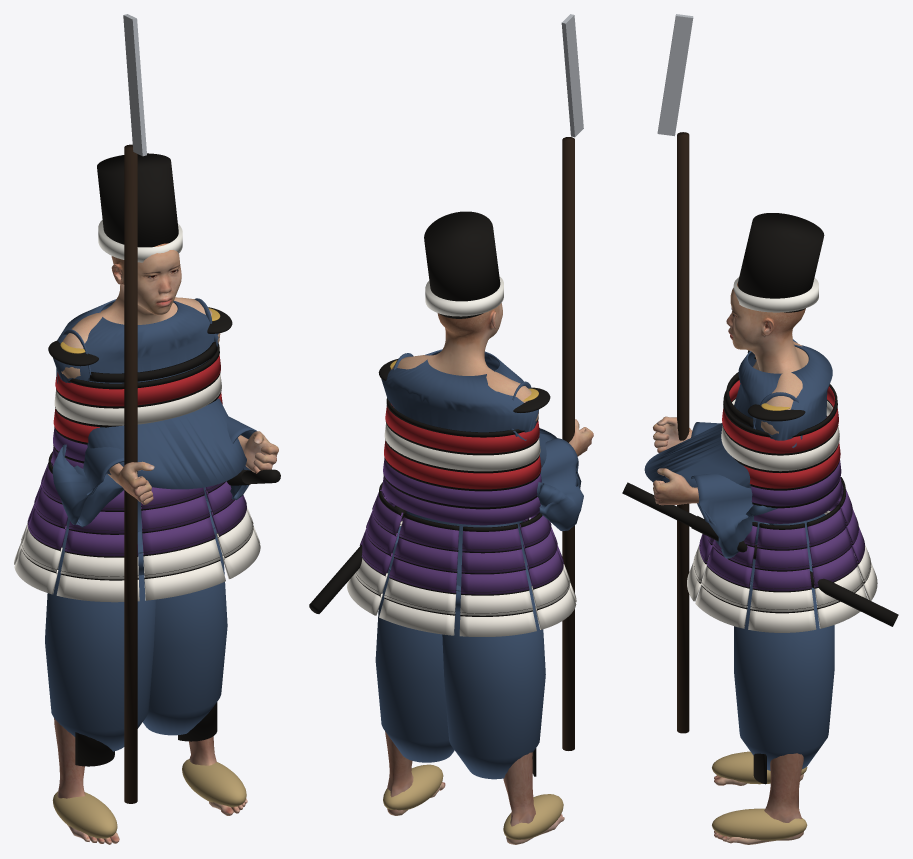
Rendered from bushi_doumaru.glb.
3 views of the same model, side by side, from view 1: azimuth 30°, elevation 25°; view 2: azimuth 150°, elevation 25°; view 3: azimuth 270°, elevation 25° (orthographic). The views are drawn at different scales.
Visible parts, largest first — view 1: shitagi, hakama.R, hakama.L, Human, naginata_e, dou, kusazuri0, kusazuri7, eboshi, sode.R, kusazuri6, kusazuri1 (+9 smaller); view 2: dou, hakama.R, hakama.L, shitagi, Human, kusazuri4, kusazuri5, naginata_e, eboshi, kusazuri6, kusazuri3, sode.R (+5 smaller); view 3: hakama.L, dou, Human, shitagi, naginata_e, kusazuri2, eboshi, kusazuri3, sode.L, kusazuri1, naginata_ha, kutsu.L (+7 smaller).
Boxes of the visible parts, bbox=[...] form: shitagi: bbox=[53, 299, 246, 575]; hakama.R: bbox=[45, 528, 155, 751]; hakama.L: bbox=[143, 487, 227, 735]; Human: bbox=[54, 243, 278, 844]; naginata_e: bbox=[124, 144, 137, 803]; dou: bbox=[52, 343, 222, 468]; kusazuri0: bbox=[141, 487, 225, 600]; kusazuri7: bbox=[56, 490, 139, 602]; eboshi: bbox=[97, 153, 178, 247]; sode.R: bbox=[52, 329, 138, 527]; kusazuri6: bbox=[14, 462, 67, 594]; kusazuri1: bbox=[205, 481, 260, 579]; dou: bbox=[382, 398, 541, 525]; hakama.R: bbox=[442, 549, 545, 779]; hakama.L: bbox=[375, 526, 454, 762]; shitagi: bbox=[381, 349, 557, 611]; Human: bbox=[385, 303, 593, 844]; kusazuri4: bbox=[379, 513, 459, 635]; kusazuri5: bbox=[459, 524, 536, 636]; naginata_e: bbox=[562, 137, 574, 750]; eboshi: bbox=[424, 211, 500, 318]; kusazuri6: bbox=[519, 512, 576, 629]; kusazuri3: bbox=[347, 490, 403, 615]; sode.R: bbox=[510, 381, 583, 531]; hakama.L: bbox=[734, 568, 834, 770]; dou: bbox=[721, 380, 841, 523]; Human: bbox=[653, 282, 808, 844]; shitagi: bbox=[644, 344, 832, 584]; naginata_e: bbox=[677, 132, 689, 733]; kusazuri2: bbox=[748, 523, 816, 632]; eboshi: bbox=[738, 213, 824, 312]; kusazuri3: bbox=[806, 504, 867, 628]; sode.L: bbox=[691, 392, 802, 558]; kusazuri1: bbox=[695, 522, 757, 628]; naginata_ha: bbox=[657, 14, 693, 136]; kutsu.L: bbox=[712, 808, 807, 840].
Bounding box in the file's own units: 0.608 × 2.19 × 0.7143.
Materials: 15 (4 with a texture image).
